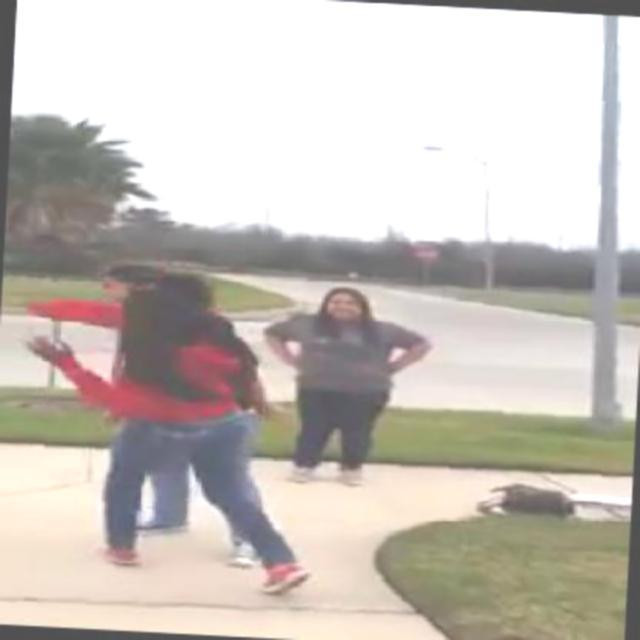fight: (9, 254, 309, 592)
non-fight: (258, 282, 433, 488)
